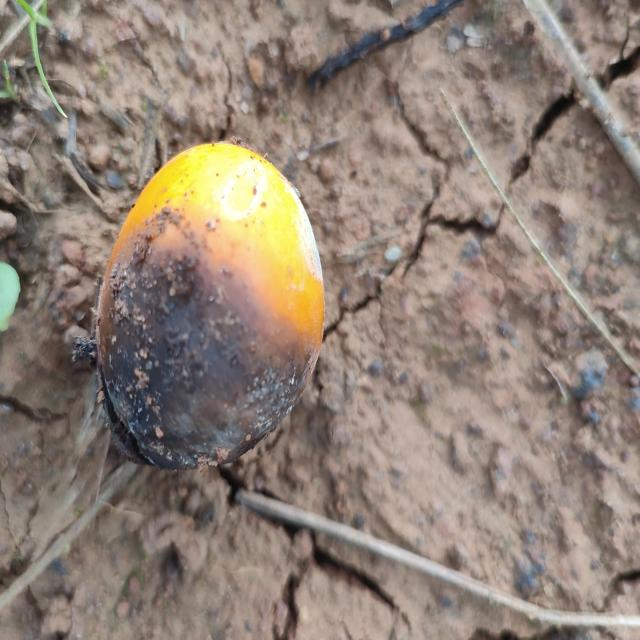damaged: (94, 142, 326, 473)
